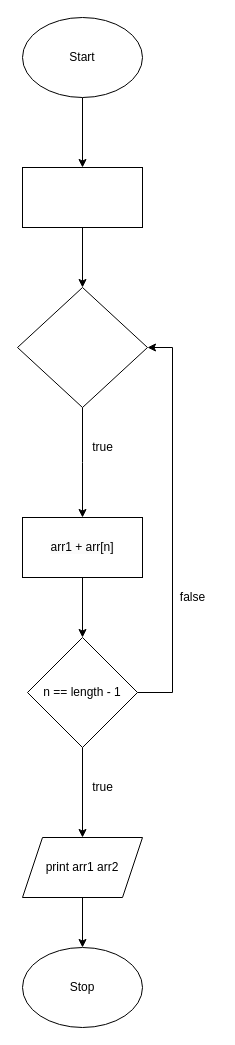
Image size: 235x1045. Some labels were removed from this diagram. The box of each missing label's shape, as (x1, y1, x2, y2) in pixels:
arr n = 0 limit: (22, 166, 142, 228)
arr[n] > limit: (16, 286, 148, 408)
